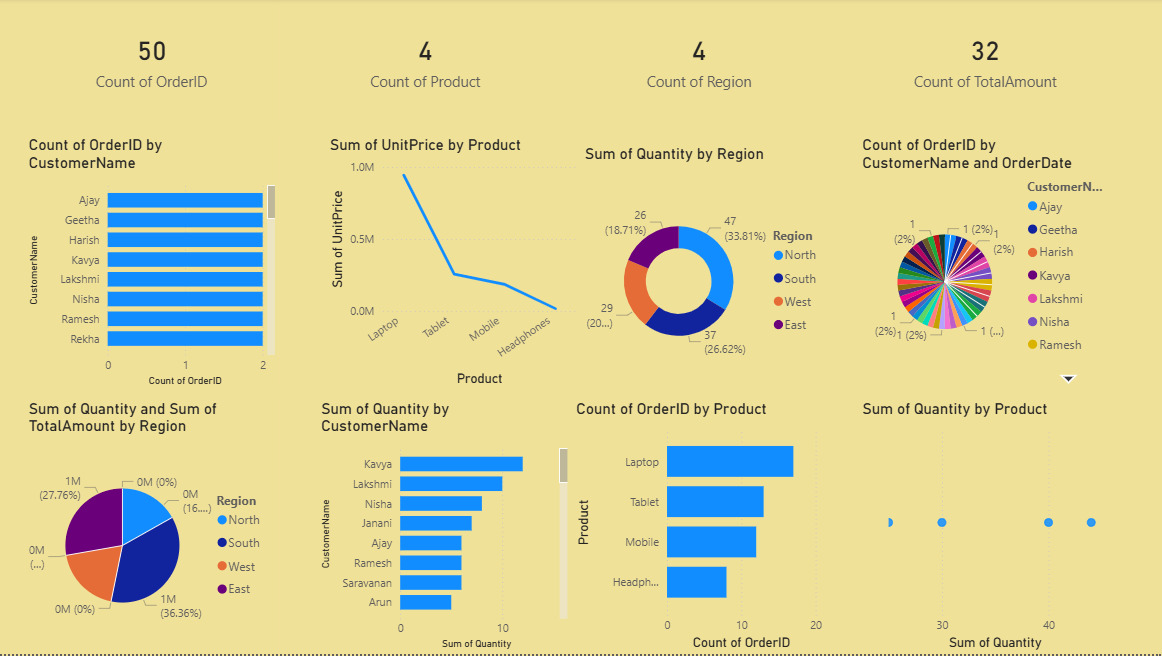

The dashboard page shown, as its layout file describes it:
{"tool":"powerbi","page":{"name":"Page 1","canvas":[1280,720],"ordinal":0},"visuals":[{"type":"clusteredBarChart","fields":{"Category":["Sheet1.CustomerName"],"Y":["CountNonNull(Sheet1.OrderID)"]},"box":[28.8,150.9,279.9,279.9],"z":0},{"type":"pieChart","fields":{"Category":["Sheet1.Region"],"Y":["Sum(Sheet1.Quantity)","Sum(Sheet1.TotalAmount)"]},"box":[28.8,440.5,279.9,279.9],"z":1000},{"type":"lineChart","fields":{"Category":["Sheet1.Product"],"Y":["Sum(Sheet1.UnitPrice)"]},"box":[359.5,150.9,279.9,279.9],"z":2000},{"type":"clusteredBarChart","fields":{"Category":["Sheet1.CustomerName"],"Y":["Sum(Sheet1.Quantity)"]},"box":[349.9,440.5,279.9,279.9],"z":3000},{"type":"donutChart","fields":{"Category":["Sheet1.Region"],"Y":["Sum(Sheet1.Quantity)"]},"box":[639.5,160.5,279.9,279.9],"z":4000},{"type":"clusteredBarChart","fields":{"Category":["Sheet1.Product"],"Y":["CountNonNull(Sheet1.OrderID)"]},"box":[629.8,440.5,279.9,279.9],"z":5000},{"type":"pieChart","fields":{"Series":["Sheet1.OrderDate"],"Category":["Sheet1.CustomerName"],"Y":["CountNonNull(Sheet1.OrderID)"]},"box":[944.1,150.9,279.9,279.9],"z":6000},{"type":"scatterChart","fields":{"Category":["Sheet1.Product"],"X":["Sum(Sheet1.Quantity)"]},"box":[944.1,440.5,279.9,279.9],"z":7000},{"type":"card","fields":{"Values":["Count(Sheet1.Region)"]},"box":[629.8,0,279.9,134.5],"z":8000},{"type":"card","fields":{"Values":["Count(Sheet1.OrderID)"]},"box":[28.8,0,279.9,134.5],"z":9000},{"type":"card","fields":{"Values":["Count(Sheet1.Product)"]},"box":[329.3,0,279.9,134.5],"z":10000},{"type":"card","fields":{"Values":["Count(Sheet1.TotalAmount)"]},"box":[944.1,0,279.9,134.5],"z":11000}]}

Visuals, with their boxes in screenshot pixels (x1, y1, x2, y2), scaled from the page's 1280x720 canvas onto the 1162x656 screenshot:
clusteredBarChart - Sheet1.CustomerName x CountNonNull(Sheet1.OrderID): BBox(26, 137, 280, 393)
pieChart - Sheet1.Region x Sum(Sheet1.Quantity): BBox(26, 401, 280, 655)
lineChart - Sheet1.Product x Sum(Sheet1.UnitPrice): BBox(326, 137, 580, 393)
clusteredBarChart - Sheet1.CustomerName x Sum(Sheet1.Quantity): BBox(318, 401, 572, 655)
donutChart - Sheet1.Region x Sum(Sheet1.Quantity): BBox(581, 146, 835, 401)
clusteredBarChart - Sheet1.Product x CountNonNull(Sheet1.OrderID): BBox(572, 401, 826, 655)
pieChart - Sheet1.OrderDate x Sheet1.CustomerName: BBox(857, 137, 1111, 393)
scatterChart - Sheet1.Product x Sum(Sheet1.Quantity): BBox(857, 401, 1111, 655)
card - Count(Sheet1.Region): BBox(572, 0, 826, 123)
card - Count(Sheet1.OrderID): BBox(26, 0, 280, 123)
card - Count(Sheet1.Product): BBox(299, 0, 553, 123)
card - Count(Sheet1.TotalAmount): BBox(857, 0, 1111, 123)
